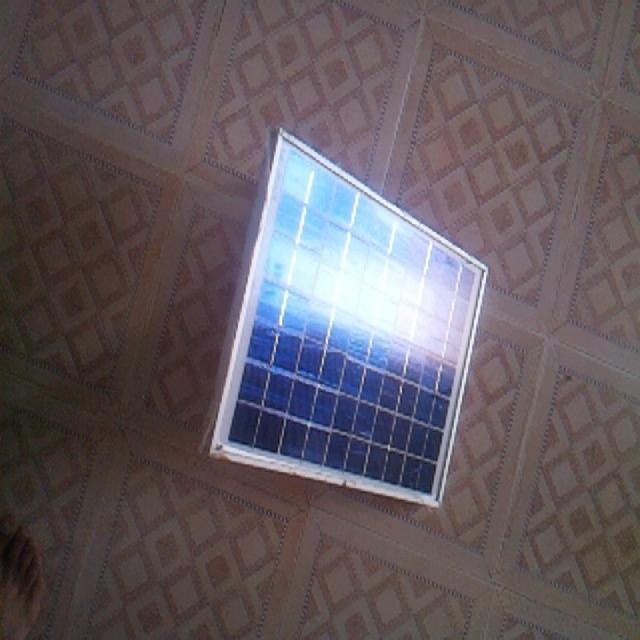Normal Solar Panel: (211, 129, 488, 507)
